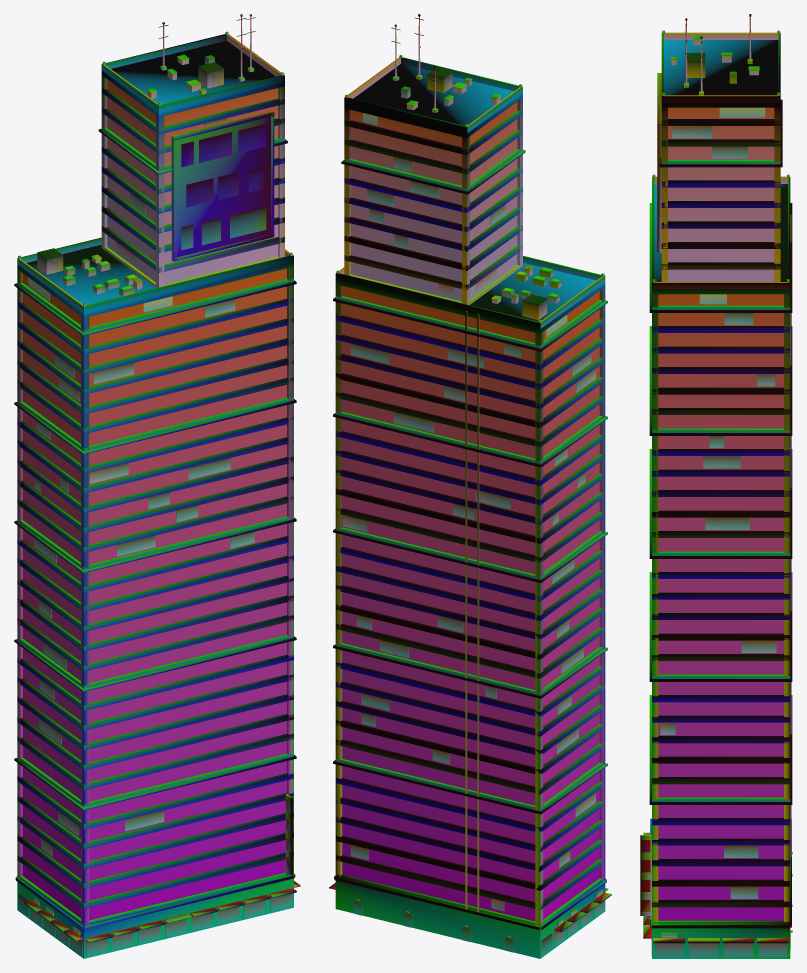
File: Tower_Slab_V10.fbx
3 renders of one model, left to right at view 1: azimuth 30°, elevation 25°; view 2: azimuth 150°, elevation 25°; view 3: azimuth 270°, elevation 25°, orthographic. The views are drawn at different scales.
Visible parts, largest first — view 1: Tower_Slab_V10_LOD0; view 2: Tower_Slab_V10_LOD0; view 3: Tower_Slab_V10_LOD0.
Boxes of the visible parts, box(x1,y1,x2,y2) form: Tower_Slab_V10_LOD0: box(14, 14, 300, 958); Tower_Slab_V10_LOD0: box(329, 14, 611, 958); Tower_Slab_V10_LOD0: box(640, 14, 792, 958).
Size of what is drawn, in the model's own units: 42.8 by 162 by 24.28.
